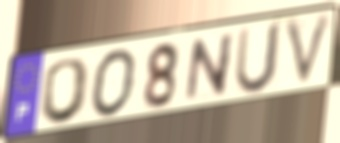8: (141, 40, 182, 111)
N: (182, 30, 237, 106)
O: (37, 56, 93, 127), (90, 46, 140, 120)
U: (232, 20, 285, 98)
V: (282, 10, 336, 92)
